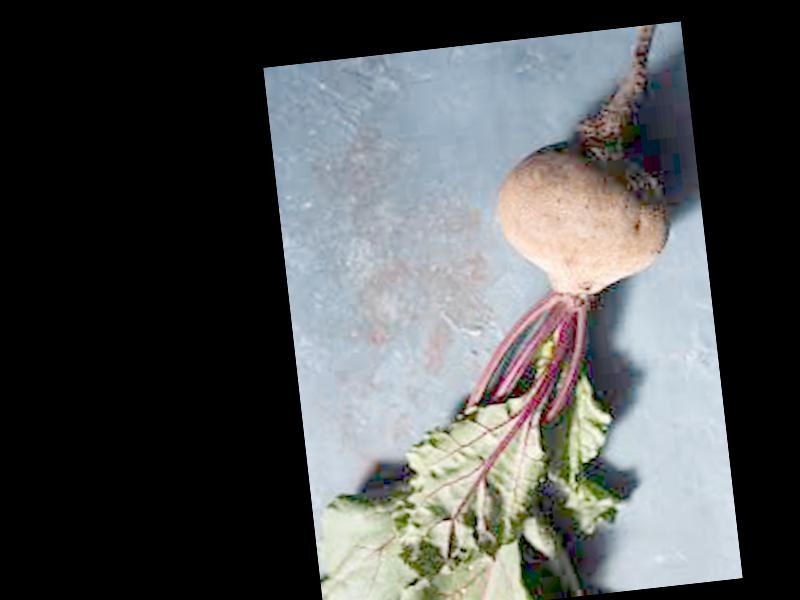Beet: (266, 26, 715, 600)
